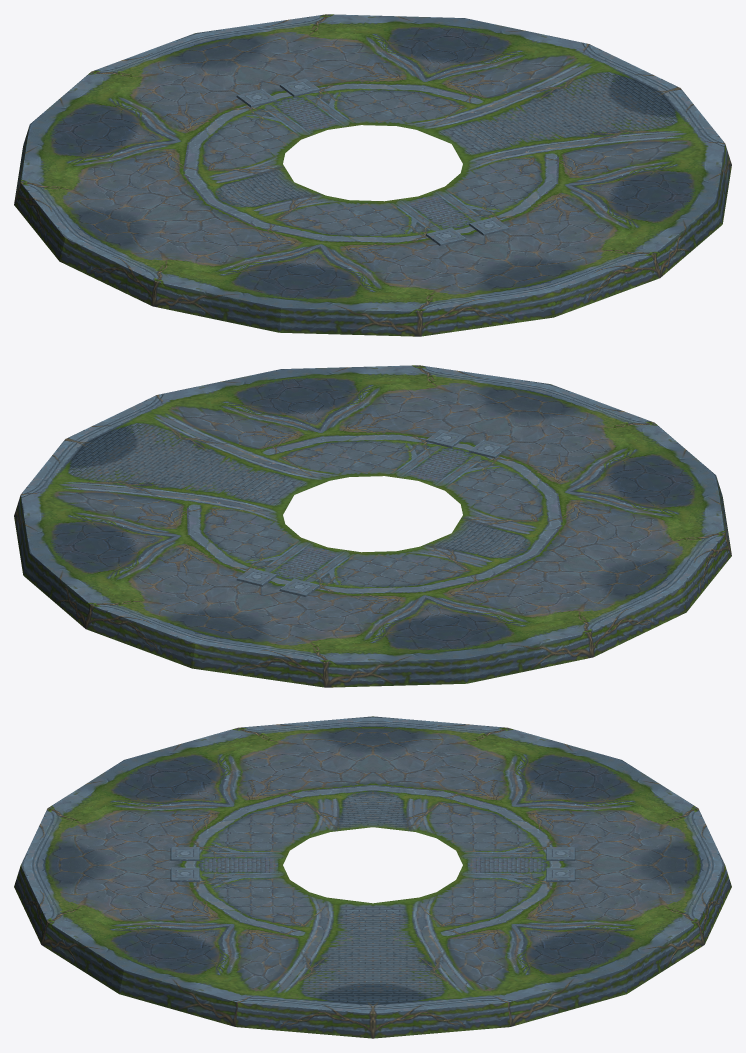
Rendered from fb_tys_zj_08.FBX.
3 views of the same model, one above another, from view 1: azimuth 30°, elevation 25°; view 2: azimuth 150°, elevation 25°; view 3: azimuth 270°, elevation 25° (orthographic).
Visible parts, largest first — view 1: fb_tys_zj_08_b; view 2: fb_tys_zj_08_b; view 3: fb_tys_zj_08_b.
Boxes of the visible parts, x1,y1,x2,y2 form: fb_tys_zj_08_b: (14,14,731,336); fb_tys_zj_08_b: (14,365,731,687); fb_tys_zj_08_b: (14,716,731,1038).
Bounding box in the file's own units: 5467 × 197 × 5467.
